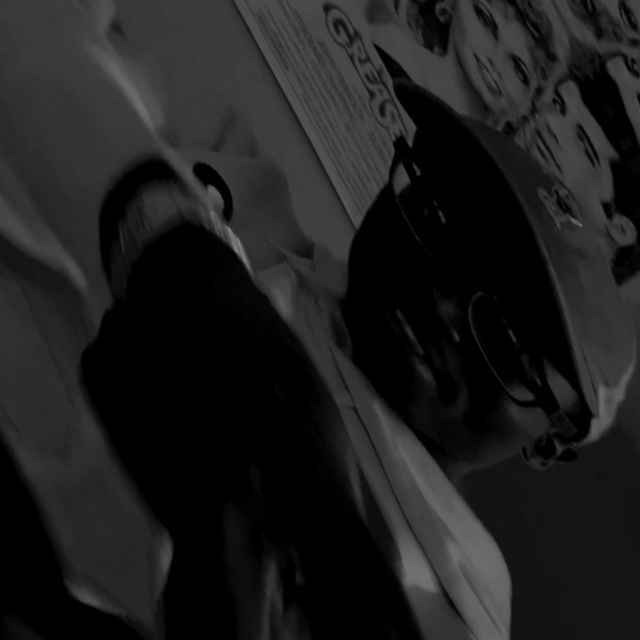Rock: (0, 202, 474, 640)
